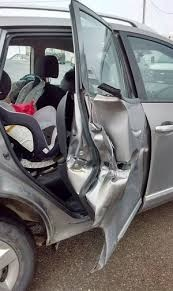Smashed: (63, 85, 151, 263)
